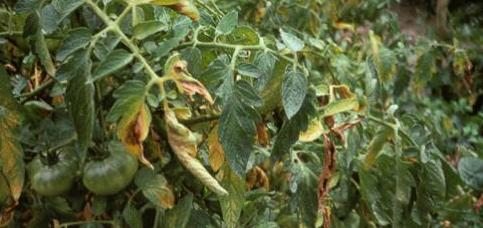Tomato Early blight leaf: (160, 102, 230, 194), (115, 77, 154, 167), (0, 107, 27, 227), (163, 56, 221, 103), (22, 6, 57, 78), (127, 0, 206, 23)
Tomato leaf: (59, 54, 97, 157), (217, 79, 256, 174), (282, 64, 305, 120)
